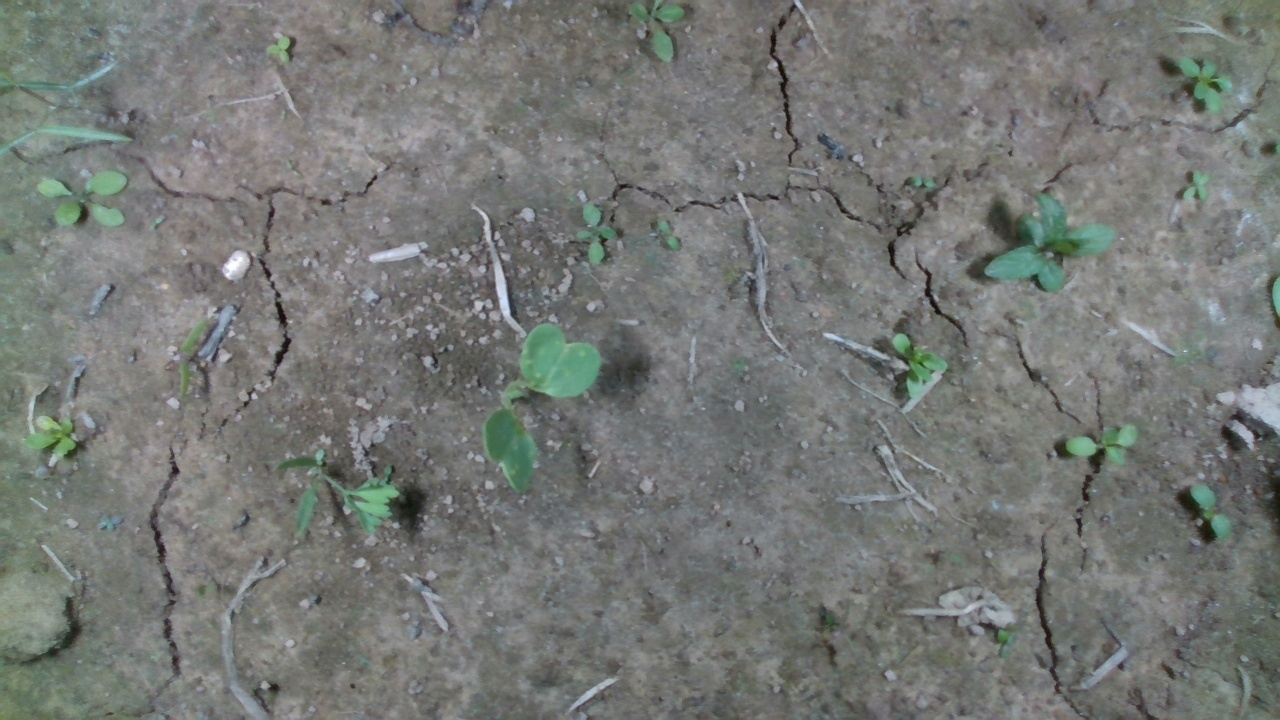weed: (34, 169, 130, 229), (1066, 423, 1139, 476), (1175, 50, 1231, 114), (571, 201, 620, 267), (18, 412, 78, 458), (1190, 480, 1233, 540), (1181, 165, 1211, 205), (263, 34, 294, 67), (655, 216, 680, 252)
